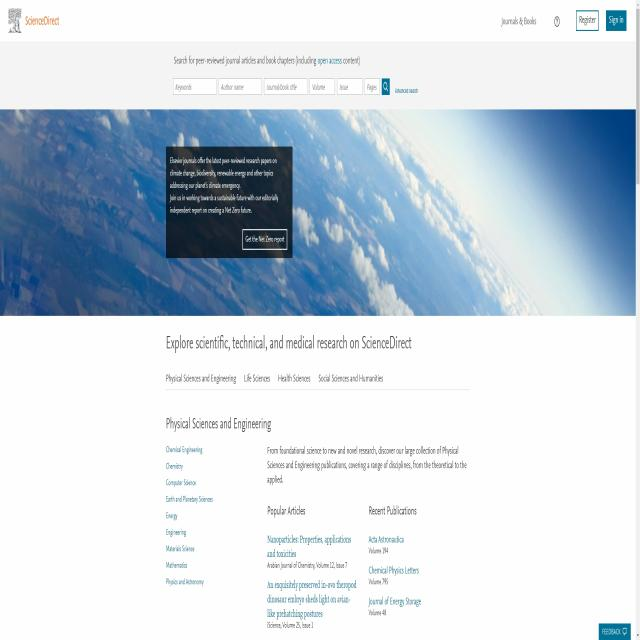menu-bar: (499, 8, 629, 34)
tab-bar: (157, 365, 408, 393)
